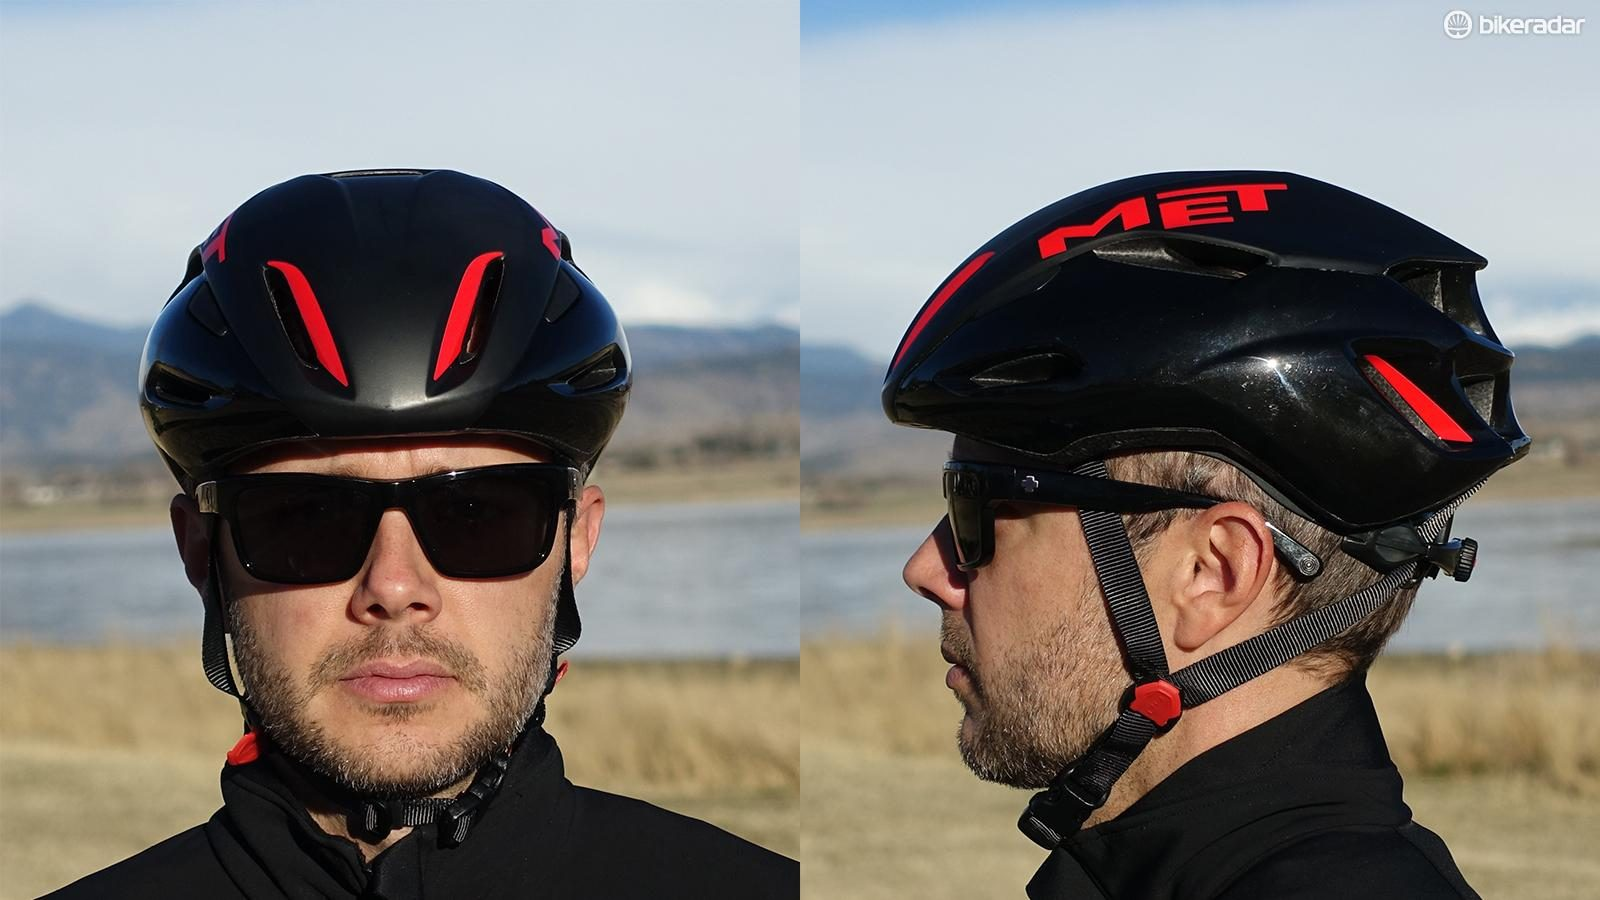helmet: (880, 169, 1532, 795), (142, 168, 632, 800)
